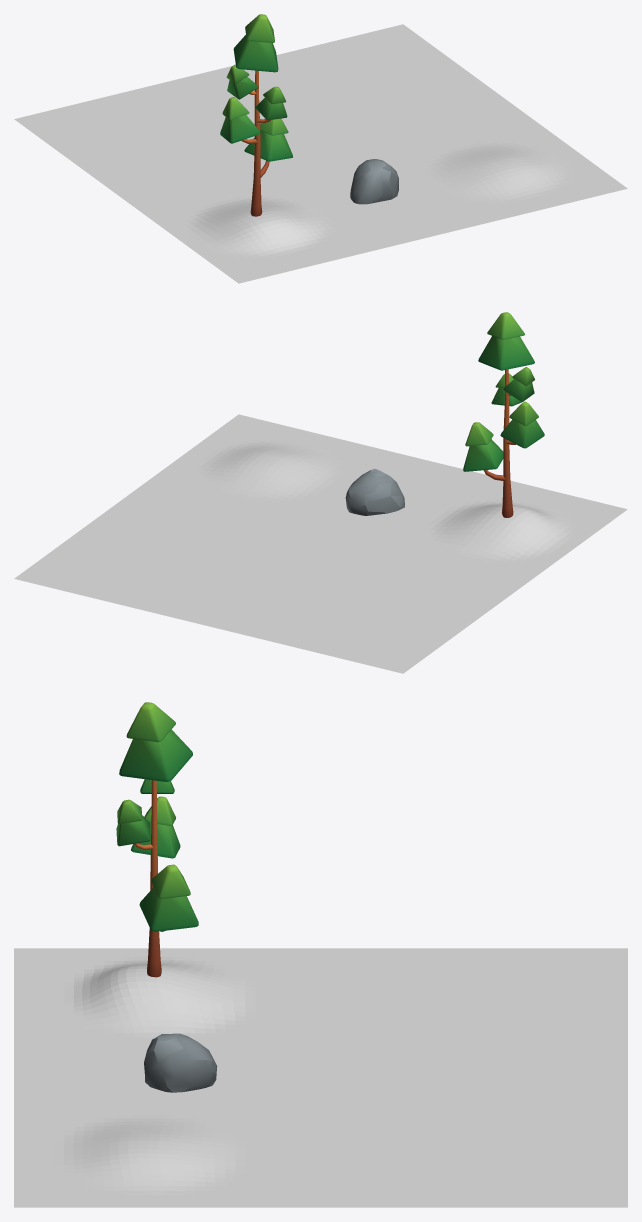
Rendered from world.glb.
3 views of the same model, one above another, from view 1: azimuth 30°, elevation 25°; view 2: azimuth 150°, elevation 25°; view 3: azimuth 270°, elevation 25° (orthographic). The views are drawn at different scales.
Parts seen in each view (by area): view 1: Plane:TerrainPrefab, Three.StaticPrefab, Rock_StaticPrefab; view 2: Plane:TerrainPrefab, Three.StaticPrefab, Rock_StaticPrefab; view 3: Plane:TerrainPrefab, Three.StaticPrefab, Rock_StaticPrefab.
Boxes of the visible parts, x1,y1,x2,y2 form: Plane:TerrainPrefab: (14,24,627,283); Three.StaticPrefab: (220,14,292,216); Rock_StaticPrefab: (350,159,398,204); Plane:TerrainPrefab: (14,414,627,673); Three.StaticPrefab: (463,312,544,517); Rock_StaticPrefab: (345,468,404,515); Plane:TerrainPrefab: (14,948,627,1207); Three.StaticPrefab: (116,702,198,977); Rock_StaticPrefab: (144,1033,217,1092).
Bounding box in the file's own units: 21.43 × 11.93 × 21.43.
2 materials, 2 textured.
